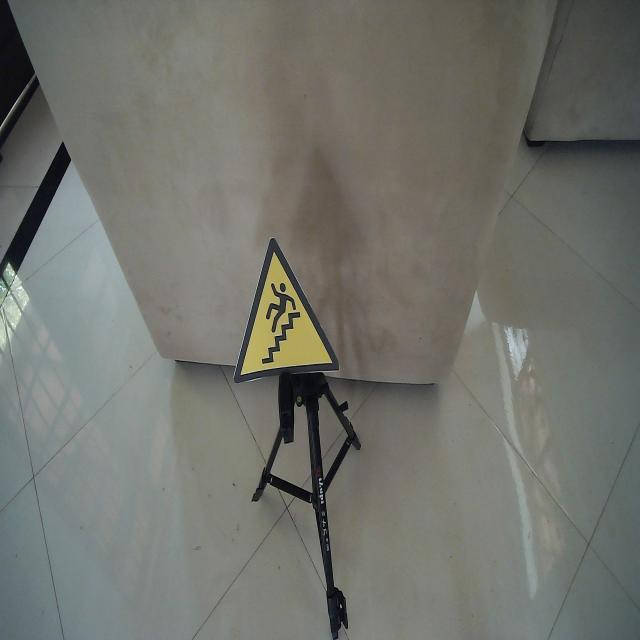stairs: (232, 234, 341, 388)
